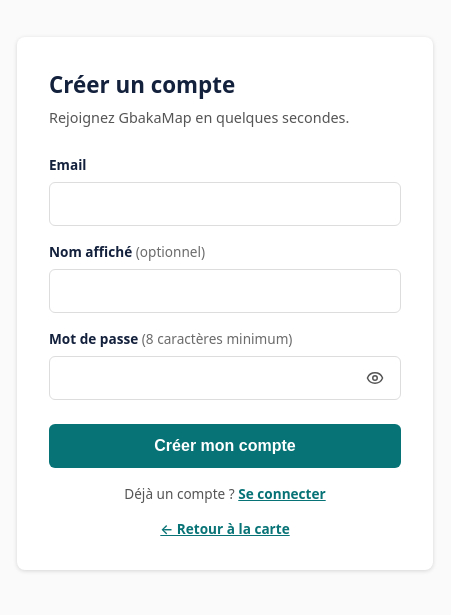
Test: SignupPage › affiche une erreur de validation sur email invalide, sans appeler l’API
Expected: the button "Créer mon compte" is shown, [49,424,401,468]
Type "pas-un-email" into the field labelled "Email" at (225,204), box [49,182,401,226]
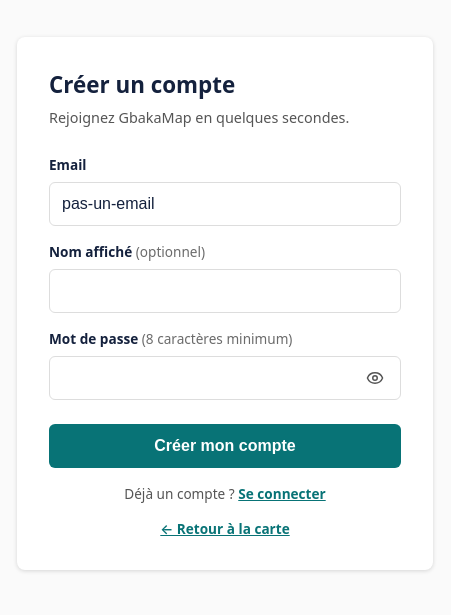
Type "motdepasse123" into the password field labelled "Mot de passe (8 caractères minimum)" at (225,378), box [49,356,401,400]
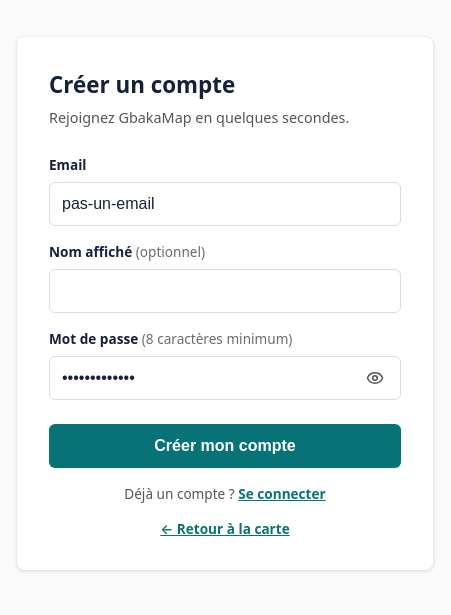
Click the button "Créer mon compte" at (225,446), box [49,424,401,468]
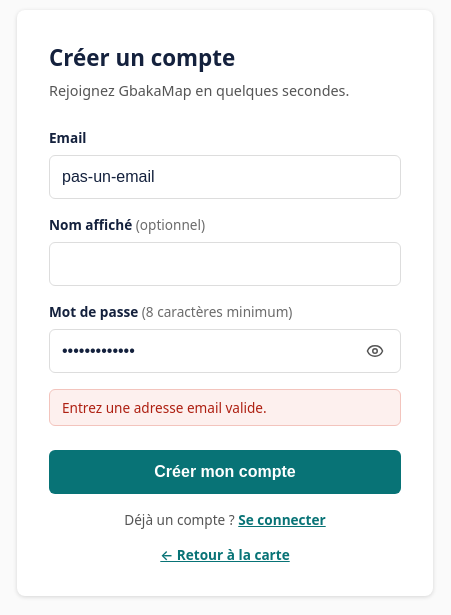
Now the message reads "Entrez une adresse email valide.", box [62,398,267,417]
